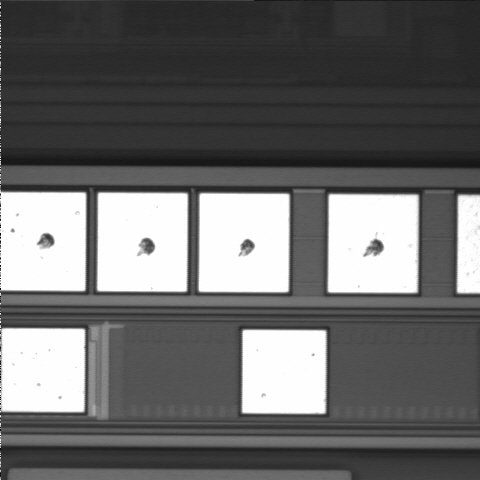pad: (97, 193, 188, 292), (199, 193, 289, 292), (328, 194, 418, 293), (242, 330, 326, 414)
